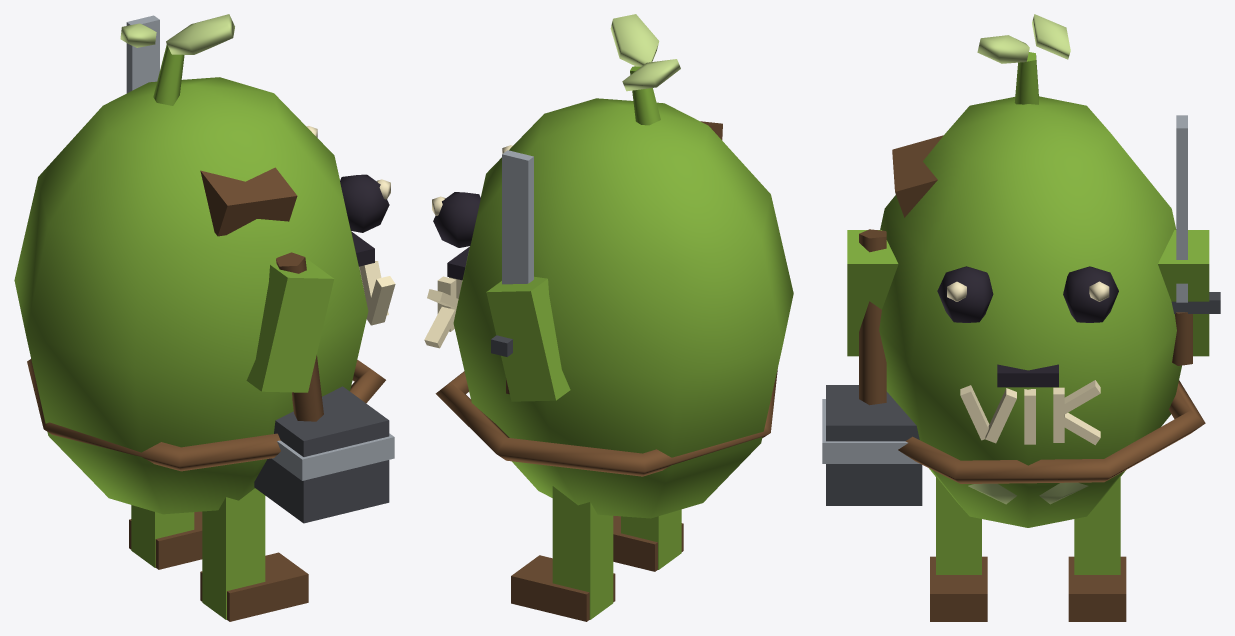
The model's file is enemy_normal.glb.
3 renders of one model, left to right at view 1: azimuth 30°, elevation 25°; view 2: azimuth 150°, elevation 25°; view 3: azimuth 270°, elevation 25°, orthographic. The views are drawn at different scales.
Visible parts, largest first — view 1: body, hammer_head, arm_l_mesh, leg_l_mesh, strap, shoulder_pad, foot_l, hammer_band, leg_r_mesh, eye_l, foot_r, sprout_leaf (+6 smaller); view 2: body, arm_r_mesh, strap, leg_r_mesh, sword_blade, foot_r, leg_l_mesh, eye_r, sprout_leaf, foot_l, sprout_leaf_b, sprout_stem (+1 smaller); view 3: body, hammer_head, strap, arm_l_mesh, leg_r_mesh, arm_r_mesh, leg_l_mesh, foot_r, foot_l, hammer_haft, shoulder_pad, eye_r (+16 smaller).
Boxes of the visible parts, x1,y1,x2,y2 form: body: [14, 77, 368, 514]; hammer_head: [254, 386, 389, 523]; arm_l_mesh: [246, 259, 333, 392]; leg_l_mesh: [202, 488, 265, 619]; strap: [27, 359, 385, 471]; shoulder_pad: [200, 167, 297, 236]; foot_l: [200, 552, 308, 621]; hammer_band: [271, 433, 394, 480]; leg_r_mesh: [131, 505, 194, 567]; eye_l: [340, 174, 389, 232]; foot_r: [129, 511, 202, 569]; sprout_leaf: [166, 14, 234, 54]; body: [453, 98, 793, 518]; arm_r_mesh: [486, 276, 570, 401]; strap: [435, 368, 777, 476]; leg_r_mesh: [552, 486, 613, 619]; sword_blade: [502, 150, 533, 284]; foot_r: [511, 555, 615, 621]; leg_l_mesh: [621, 509, 681, 569]; eye_r: [433, 192, 480, 247]; sprout_leaf: [610, 14, 659, 66]; foot_l: [613, 516, 683, 571]; sprout_leaf_b: [622, 59, 680, 91]; sprout_stem: [630, 66, 660, 125]; body: [879, 96, 1181, 527]; hammer_head: [826, 385, 922, 505]; strap: [898, 380, 1205, 483]; arm_l_mesh: [847, 230, 898, 356]; leg_r_mesh: [1074, 476, 1120, 574]; arm_r_mesh: [1158, 230, 1209, 356]; leg_l_mesh: [936, 476, 981, 574]; foot_r: [1068, 556, 1126, 621]; foot_l: [930, 556, 987, 621]; hammer_haft: [859, 229, 886, 405]; shoulder_pad: [892, 135, 943, 217]; eye_r: [1063, 266, 1118, 322].
Bounding box in the file's own units: 0.2005 × 0.3195 × 0.207.
